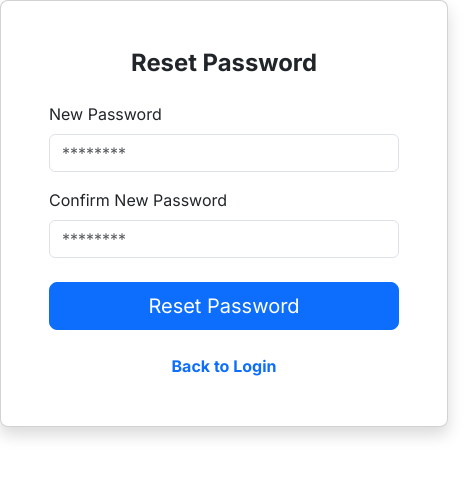
ResetPasswordForm › shows validation error if passwords do not match
This screenshot has width=469, height=481.
Type "newpass123" into the password field labelled "New Password". click: (224, 153)
box: [49,134,399,172]
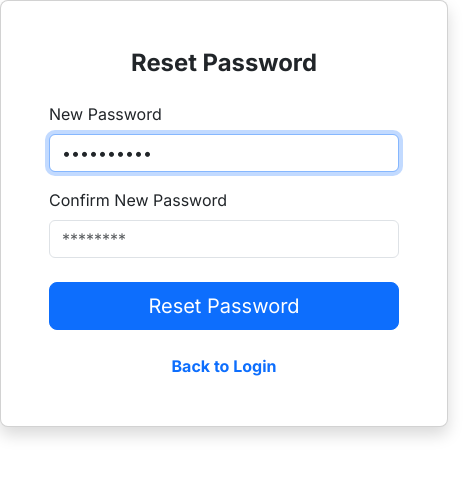
Type "mismatch" into the password field labelled "Confirm New Password". click: (224, 239)
box: [49,220,399,258]
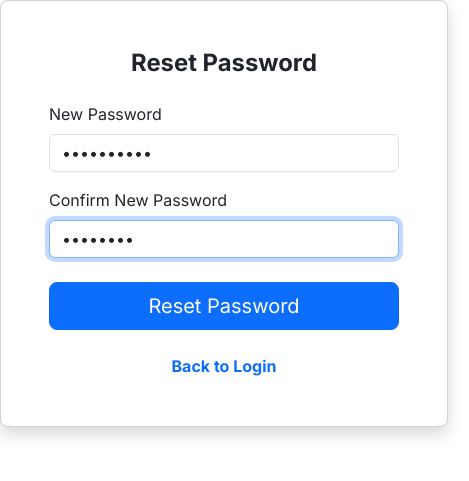
Click the button "Reset Password". click: (224, 306)
box: [49,282,399,330]
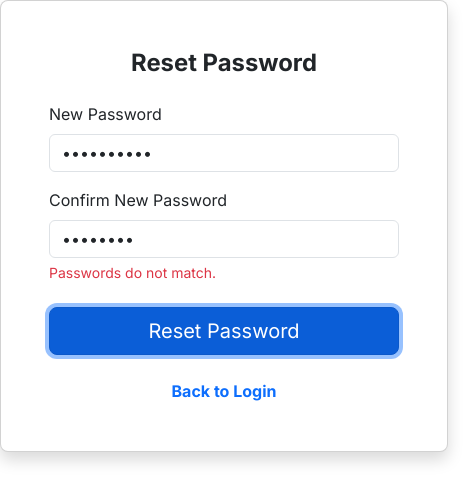
expect the text "Passwords do not match." is shown: met, box [49,264,216,281]
